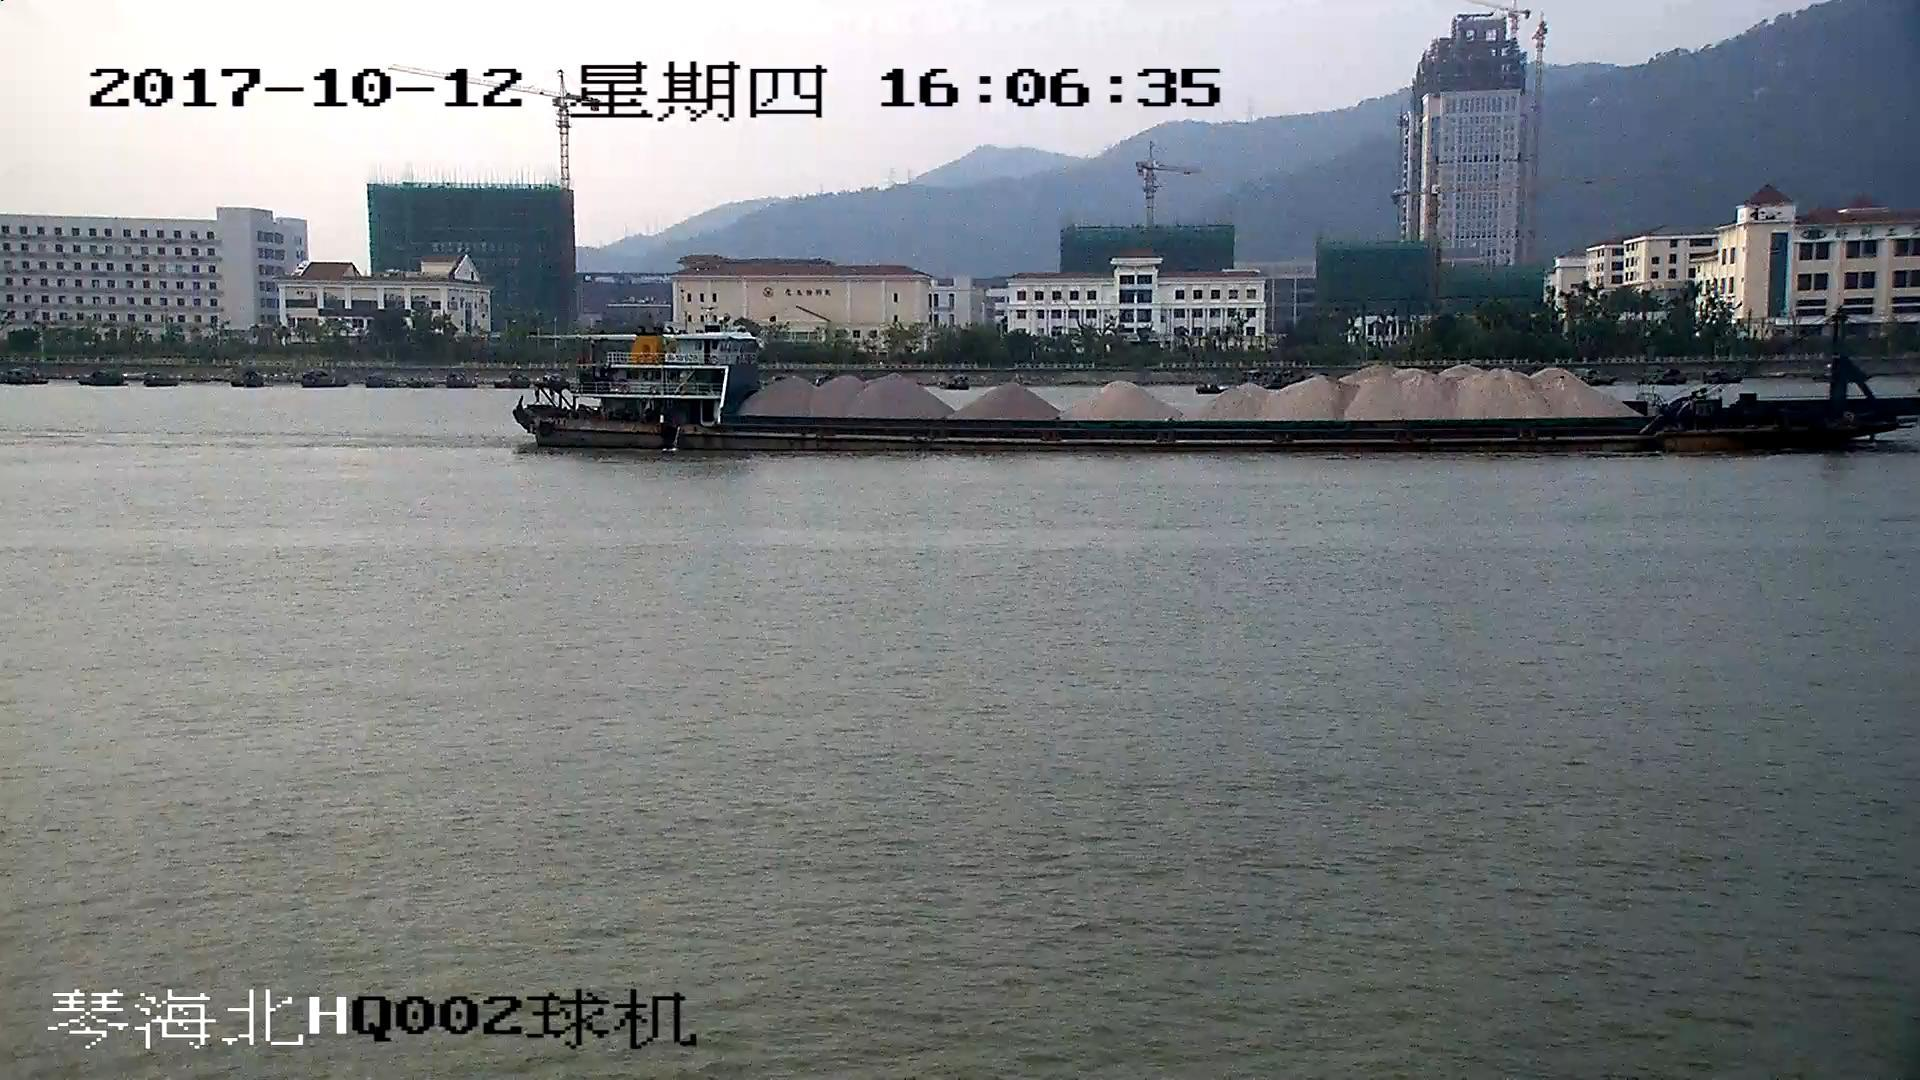Ship: (520, 330, 1920, 458)
